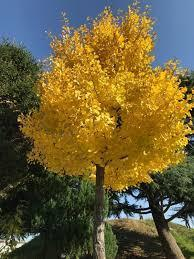tree: (18, 4, 185, 259)
